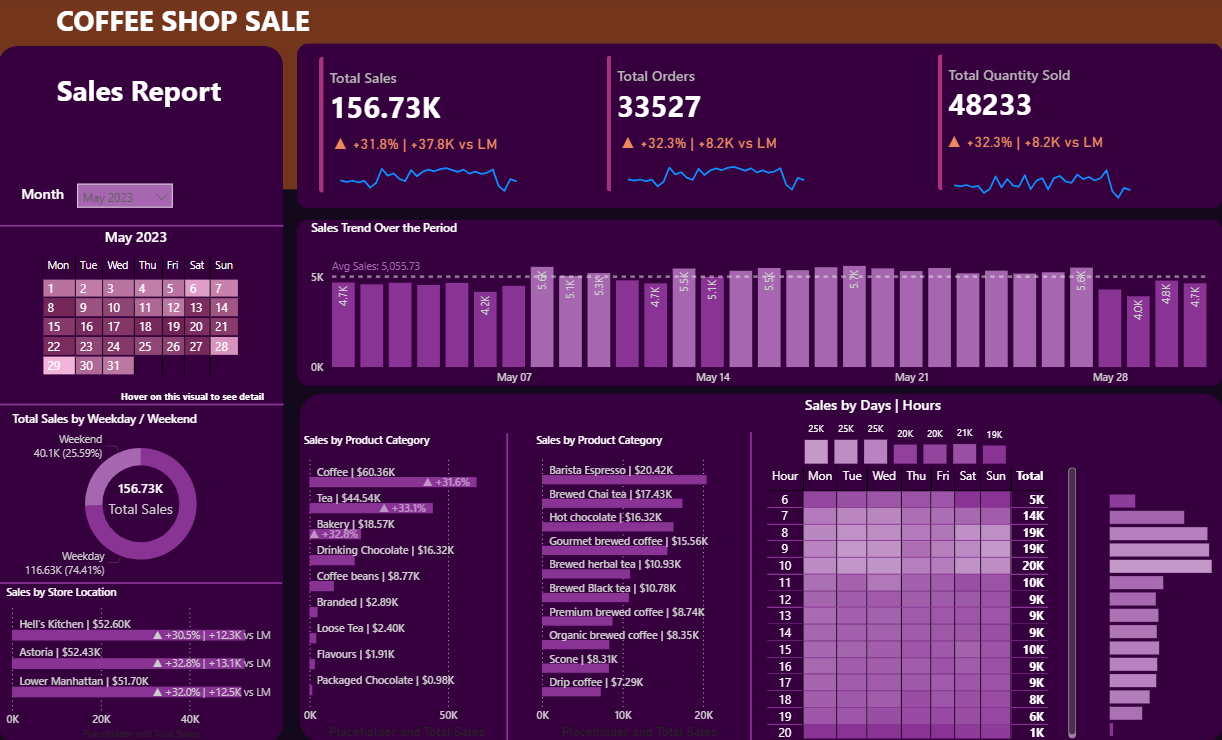

What the dashboard file says about the page in this screenshot:
{"tool":"powerbi","page":{"name":"Page 1","canvas":[1400,850],"ordinal":0},"visuals":[{"type":"shape","box":[0,0,1400.3,219.4],"z":0},{"type":"shape","box":[0,55,325,795],"z":1000},{"type":"shape","box":[340,53.3,1056.7,188.3],"z":2000},{"type":"textbox","box":[61.7,0,325,65],"z":3000},{"type":"lineChart","fields":{"Y":["coffee_shop_sales.Total Sales"],"Category":["Date Table.Date Hierarchy.Date"]},"box":[703.3,155.4,229.5,85.2],"z":4000,"group":"g2"},{"type":"lineChart","fields":{"Y":["coffee_shop_sales.Total Sales"],"Category":["Date Table.Date Hierarchy.Date"]},"box":[374.9,157.1,229.5,85.2],"z":4000,"group":"g1"},{"type":"slicer","fields":{"Values":["Date Table.Month Year"]},"box":[85,208.3,118.3,45],"z":4000},{"type":"group","id":"g1","title":"Group 1","box":[348.3,51.7,266.7,190],"z":5000},{"type":"lineChart","fields":{"Category":["Date Table.Date Hierarchy.Date"],"Y":["coffee_shop_sales.Total Quantity Sold"]},"box":[1074.2,153.7,229.5,85.2],"z":5000,"group":"g3"},{"type":"group","id":"g2","title":"Group 1","box":[676.7,50,266.7,190],"z":6000},{"type":"cardVisual","fields":{"Data":["coffee_shop_sales.Total Orders"]},"box":[676.7,50,265.6,189.1],"z":6000,"group":"g2"},{"type":"cardVisual","fields":{"Data":["coffee_shop_sales.Total Sales"]},"box":[348.3,51.7,265.6,189.1],"z":6000,"group":"g1"},{"type":"group","id":"g3","title":"Group 2","box":[1053.3,48.3,266.7,190],"z":7000},{"type":"cardVisual","fields":{"Data":["coffee_shop_sales.Total Quantity Sold"]},"box":[1053.3,48.3,265.6,189.1],"z":8000,"group":"g3"},{"type":"pivotTable","fields":{"Rows":["Date Table.Week Number"],"Columns":["Date Table.Day Name"],"Values":["Min(Date Table.Day Number)"]},"box":[21.1,291,305,190],"z":8000},{"type":"cardVisual","fields":{"Data":["Min(Date Table.Month Year)"]},"box":[92.1,241.3,152.4,61.9],"z":9000},{"type":"cardVisual","fields":{"Data":["coffee_shop_sales.Foot Note"]},"box":[111.2,425.9,245.4,56.3],"z":10000},{"type":"shape","box":[1.6,457.1,323.8,14.3],"z":11000},{"type":"shape","box":[1.6,254,323.8,14.3],"z":12000},{"type":"donutChart","fields":{"Category":["Date Table.Weekday / Weekend"],"Y":["coffee_shop_sales.Total Sales"]},"box":[11.5,472.1,303.2,194.9],"z":13000},{"type":"cardVisual","fields":{"Data":["coffee_shop_sales.Total Sales"]},"box":[85.2,495.2,154.5,151.6],"z":14000},{"type":"clusteredBarChart","title":"Sales by Store Location","fields":{"Category":["coffee_shop_sales.store_location"],"Y":["coffee_shop_sales.Placeholder","coffee_shop_sales.Total Sales"]},"box":[3.8,668.8,322.5,181.2],"z":15000},{"type":"shape","box":[0,661.2,323.8,13.8],"z":16000},{"type":"shape","box":[340,253.3,1056.7,190],"z":17000},{"type":"columnChart","title":"Sales Trend Over the Period","fields":{"Category":["coffee_shop_sales.transaction_date"],"Y":["coffee_shop_sales.Total Sales"]},"box":[351.7,253.3,1038.3,198.3],"z":18000},{"type":"shape","box":[343.3,451.7,1056.7,398.3],"z":19000},{"type":"clusteredBarChart","title":"Sales by Product Category","fields":{"Y":["coffee_shop_sales.Placeholder","coffee_shop_sales.Total Sales"],"Category":["coffee_shop_sales.product_category"]},"box":[343.3,496.7,250,353.3],"z":20000},{"type":"shape","box":[566.7,496.7,26.7,353.3],"z":21000},{"type":"clusteredBarChart","title":"Sales by Product Category","fields":{"Y":["coffee_shop_sales.Placeholder","coffee_shop_sales.Total Sales"],"Category":["coffee_shop_sales.product_type"]},"box":[608.3,496.7,250,353.3],"z":22000},{"type":"shape","box":[845,495,26.7,353.3],"z":23000},{"type":"pivotTable","fields":{"Rows":["coffee_shop_sales.Hour"],"Columns":["Date Table.Day Name"],"Values":["coffee_shop_sales.Total Sales"]},"box":[871.7,531.7,361.7,318.3],"z":24000},{"type":"barChart","fields":{"Category":["coffee_shop_sales.Hour"],"Y":["coffee_shop_sales.Total Sales"]},"box":[1261.7,553.3,128.3,293.3],"z":25000},{"type":"columnChart","title":"Sales by Days | Hours","fields":{"Y":["coffee_shop_sales.Total Sales"],"Category":["Date Table.Day Name"]},"box":[915,453.3,240,85],"z":26000},{"type":"textbox","box":[21.7,208.3,90,45],"z":27000},{"type":"textbox","box":[21.7,80,278.3,65],"z":28000}]}

Visuals, with their boxes in screenshot pixels (x1, y1, x2, y2), scaled from the page's 1400x850 canvas onto the 1222x740 screenshot:
shape: (0, 0, 1221, 191)
shape: (0, 48, 284, 739)
shape: (297, 46, 1219, 210)
textbox: (54, 0, 338, 57)
lineChart - coffee_shop_sales.Total Sales x Date Table.Date Hierarchy.Date: (614, 135, 814, 209)
lineChart - coffee_shop_sales.Total Sales x Date Table.Date Hierarchy.Date: (327, 137, 528, 211)
slicer - Date Table.Month Year: (74, 181, 177, 221)
"Group 1" group: (304, 45, 537, 210)
lineChart - Date Table.Date Hierarchy.Date x coffee_shop_sales.Total Quantity Sold: (938, 134, 1138, 208)
"Group 1" group: (591, 44, 823, 209)
cardVisual - coffee_shop_sales.Total Orders: (591, 44, 822, 208)
cardVisual - coffee_shop_sales.Total Sales: (304, 45, 536, 210)
"Group 2" group: (919, 42, 1152, 207)
cardVisual - coffee_shop_sales.Total Quantity Sold: (919, 42, 1151, 207)
pivotTable - Date Table.Week Number x Date Table.Day Name: (18, 253, 285, 419)
cardVisual - Min(Date Table.Month Year): (80, 210, 213, 264)
cardVisual - coffee_shop_sales.Foot Note: (97, 371, 311, 420)
shape: (1, 398, 284, 410)
shape: (1, 221, 284, 234)
donutChart - Date Table.Weekday / Weekend x coffee_shop_sales.Total Sales: (10, 411, 275, 581)
cardVisual - coffee_shop_sales.Total Sales: (74, 431, 209, 563)
"Sales by Store Location" clusteredBarChart: (3, 582, 285, 739)
shape: (0, 576, 283, 588)
shape: (297, 221, 1219, 386)
"Sales Trend Over the Period" columnChart: (307, 221, 1213, 393)
shape: (300, 393, 1221, 739)
"Sales by Product Category" clusteredBarChart: (300, 432, 518, 739)
shape: (495, 432, 518, 739)
"Sales by Product Category" clusteredBarChart: (531, 432, 749, 739)
shape: (738, 431, 761, 739)
pivotTable - coffee_shop_sales.Hour x Date Table.Day Name: (761, 463, 1077, 739)
barChart - coffee_shop_sales.Hour x coffee_shop_sales.Total Sales: (1101, 482, 1213, 737)
"Sales by Days | Hours" columnChart: (799, 395, 1008, 469)
textbox: (19, 181, 97, 221)
textbox: (19, 70, 262, 126)
